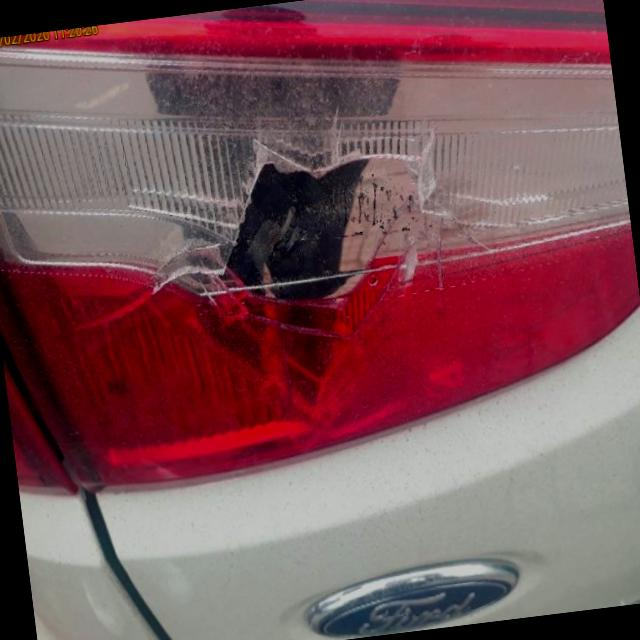Phare abime: (105, 126, 579, 361)
